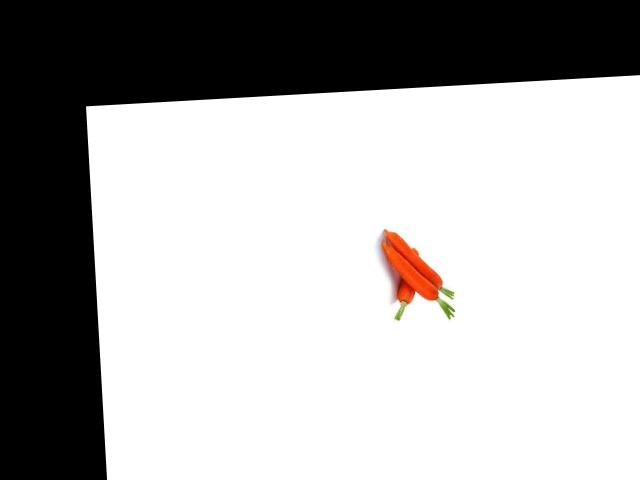carrot: (393, 244, 425, 319)
